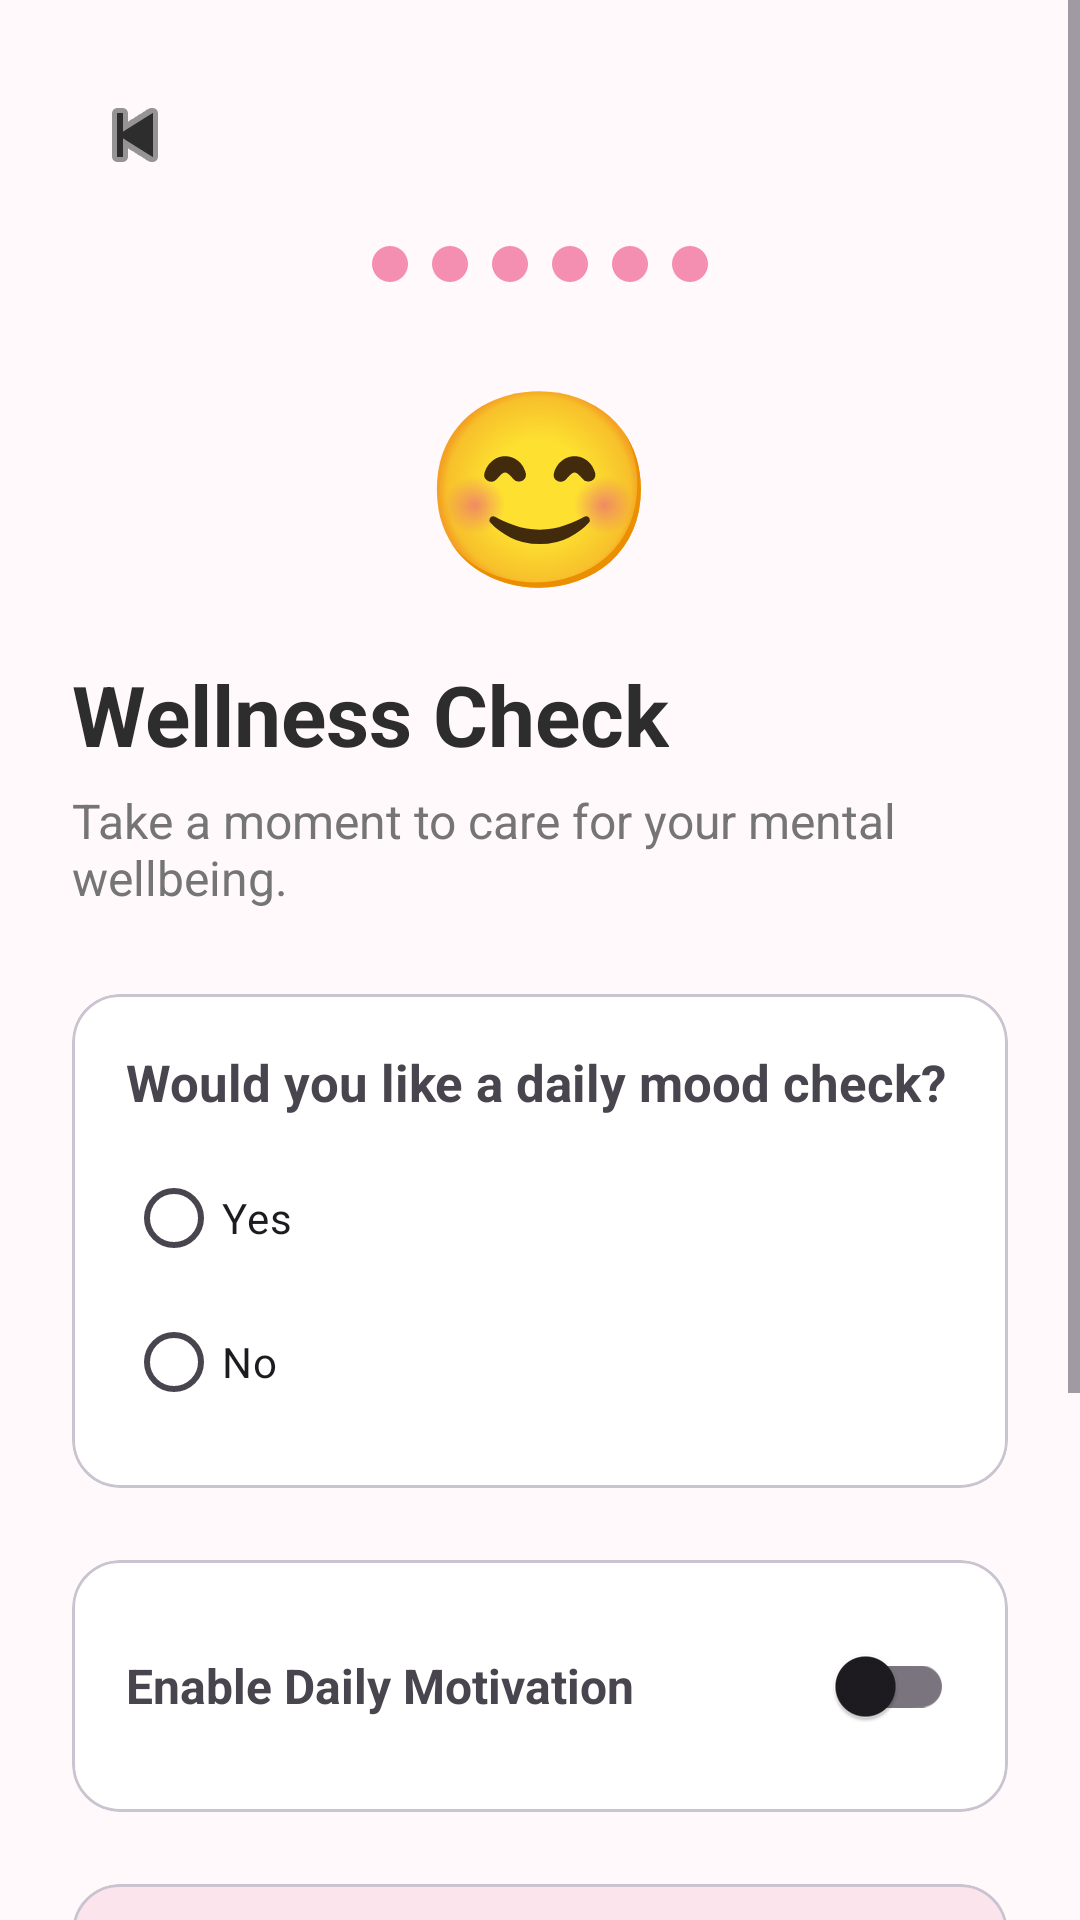

Screen size 1080px×1920px. Icon name, then its box in pixels as {"x1": x1, "y1": y1, "x2": x2, "y2": y2}:
dot: {"x1": 372, "y1": 246, "x2": 408, "y2": 282}, {"x1": 432, "y1": 246, "x2": 468, "y2": 282}, {"x1": 492, "y1": 246, "x2": 528, "y2": 282}, {"x1": 552, "y1": 246, "x2": 588, "y2": 282}, {"x1": 612, "y1": 246, "x2": 648, "y2": 282}, {"x1": 672, "y1": 246, "x2": 708, "y2": 282}
previous: {"x1": 112, "y1": 108, "x2": 158, "y2": 162}
